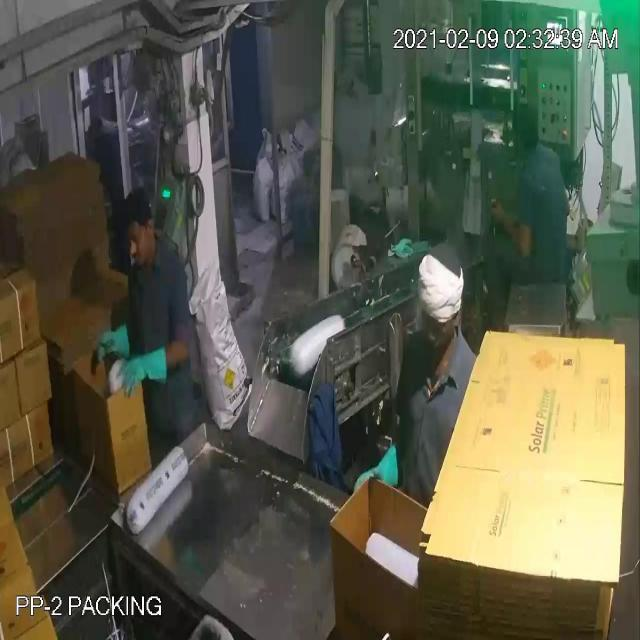Gloves: (50, 50, 512, 374)
